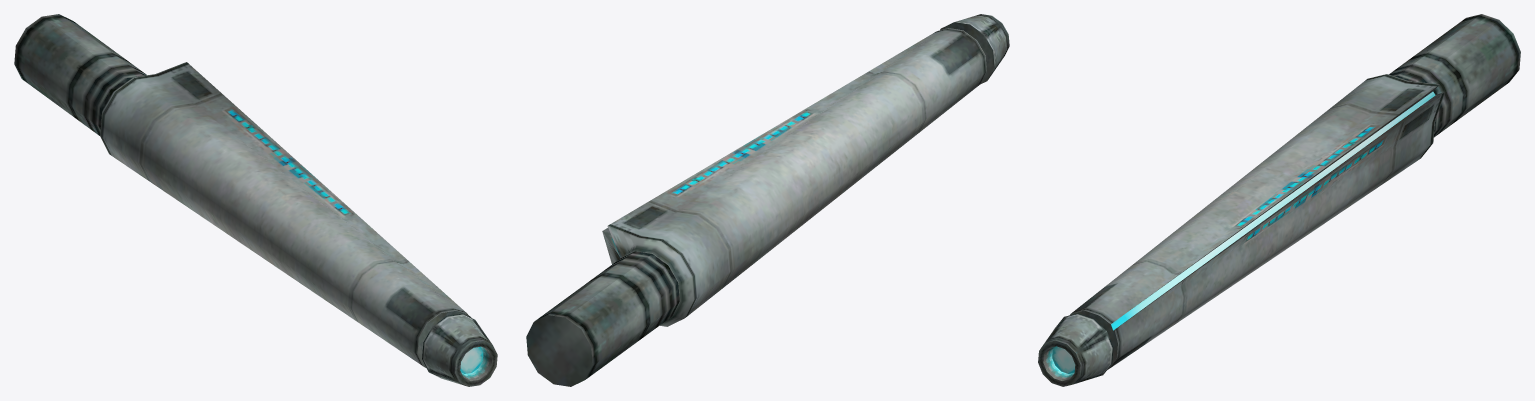
Rendered from bwing_weapon2r_s02_l0.fbx.
3 renders of one model, left to right at view 1: azimuth 30°, elevation 25°; view 2: azimuth 150°, elevation 25°; view 3: azimuth 330°, elevation 25°, orthographic.
Parts seen in each view (by area): view 1: mesh_node; view 2: mesh_node; view 3: mesh_node.
Part boxes in pixels (bbox=[...]): mesh_node: bbox=[14, 14, 497, 386]; mesh_node: bbox=[526, 14, 1009, 386]; mesh_node: bbox=[1038, 14, 1520, 386].
Size of the model in its own units: 0.3358 by 0.3086 by 2.72.
Materials: 1 (1 with a texture image).
